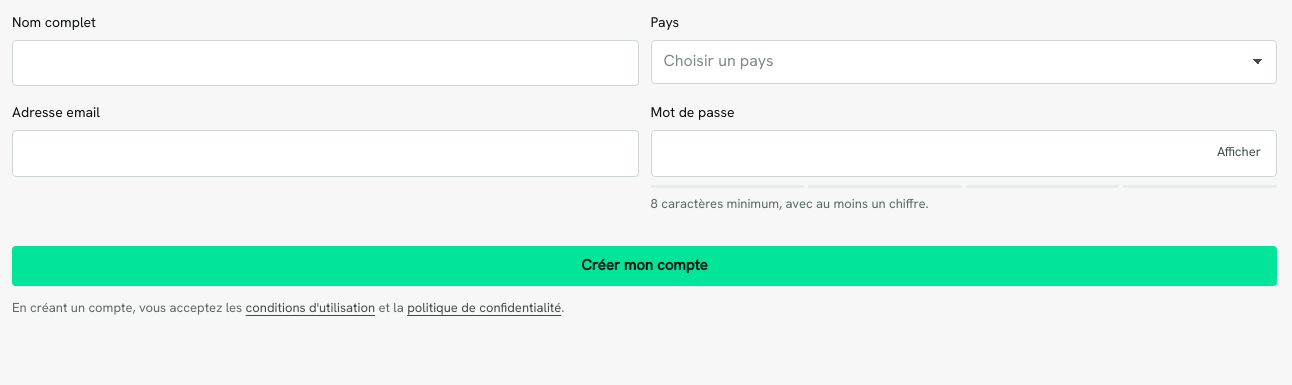
Scenario: RegisterForm › affiche les erreurs et met le focus sur le premier champ, sans appeler l'API
Click the button "Créer mon compte" at (644, 266), box [12,246,1277,286]
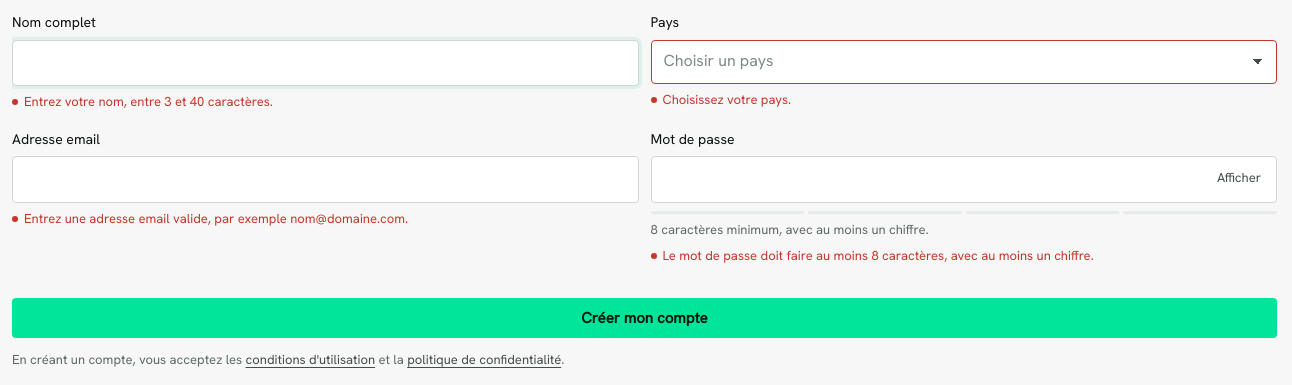
Expected: the text "Entrez votre nom, entre 3 et 40 caractères." is shown, [24,94,273,110]
Expected: the text "adresse email valide" is shown, [24,210,408,227]
Expected: the text "Choisissez votre pays." is shown, [662,91,791,108]
